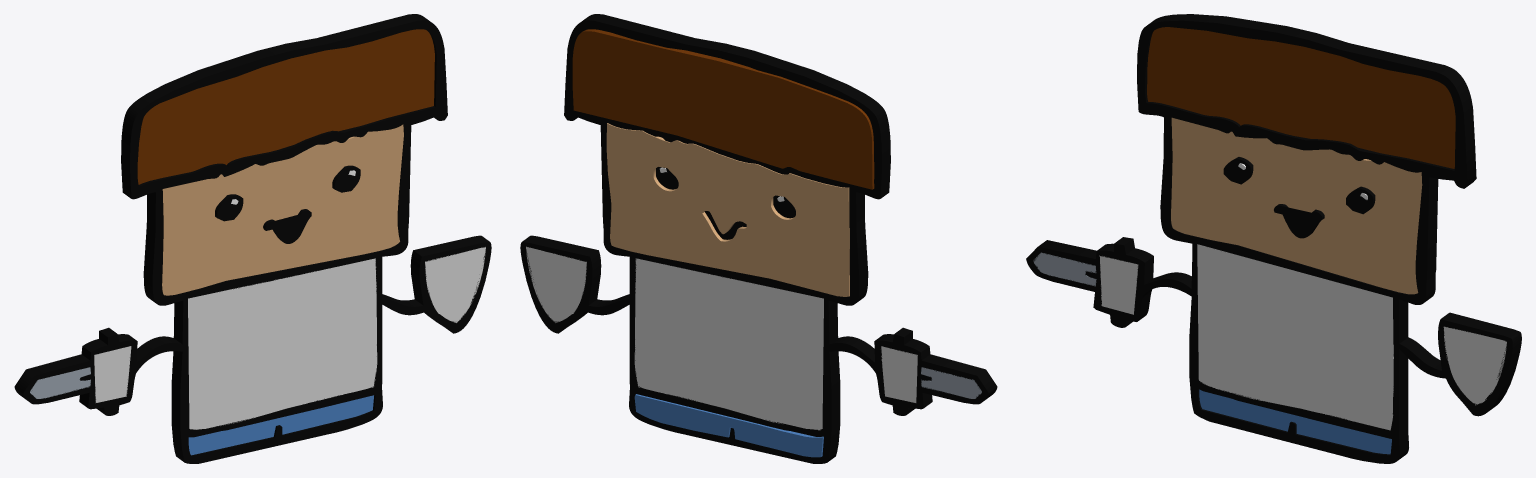
The model's file is undergrad.fbx.
3 views of the same model, side by side, from view 1: azimuth 30°, elevation 25°; view 2: azimuth 150°, elevation 25°; view 3: azimuth 330°, elevation 25° (orthographic). The views are drawn at different scales.
Parts seen in each view (by area): view 1: dont_change, change; view 2: dont_change, change; view 3: dont_change, change.
Boxes of the visible parts, <box> form: dont_change: <box>14,14,491,463</box>; change: <box>94,247,485,429</box>; dont_change: <box>520,14,997,463</box>; change: <box>526,246,917,430</box>; dont_change: <box>1026,14,1521,463</box>; change: <box>1099,244,1506,430</box>.
Size of the model in its own units: 614 by 492 by 28.12.
